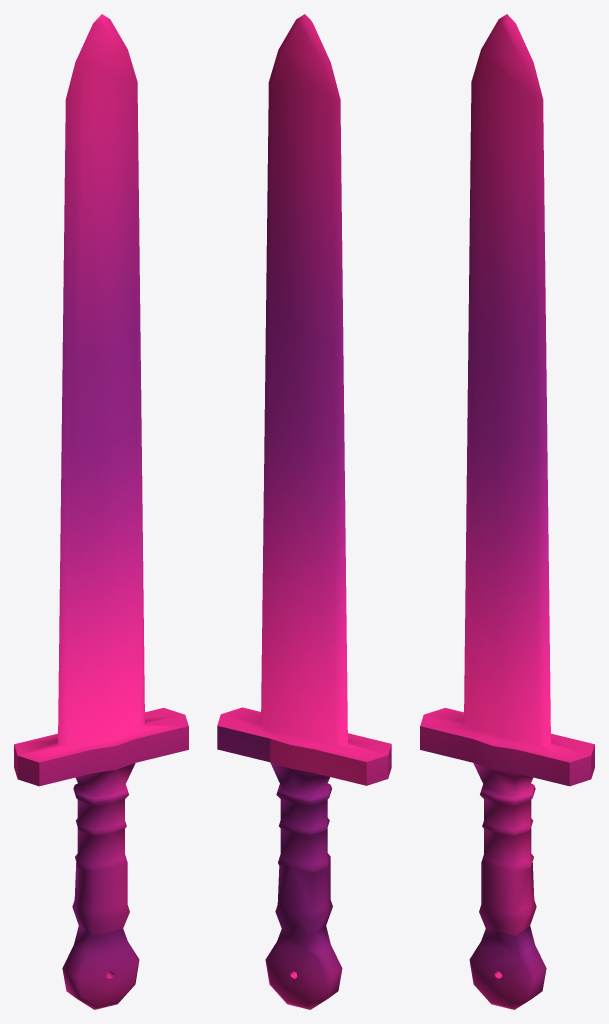
File: CrystalDagger.glb
3 renders of one model, left to right at view 1: azimuth 30°, elevation 25°; view 2: azimuth 150°, elevation 25°; view 3: azimuth 330°, elevation 25°, orthographic.
Visible parts, largest first — view 1: Sword_Cylinder; view 2: Sword_Cylinder; view 3: Sword_Cylinder.
Part boxes in pixels (x1,y1,x2,y2): Sword_Cylinder: (14,14,188,1009); Sword_Cylinder: (217,14,391,1009); Sword_Cylinder: (420,14,594,1009).
Size of the model in its own units: 0.5518 by 3.11 by 0.1635.
1 material, 1 textured.
